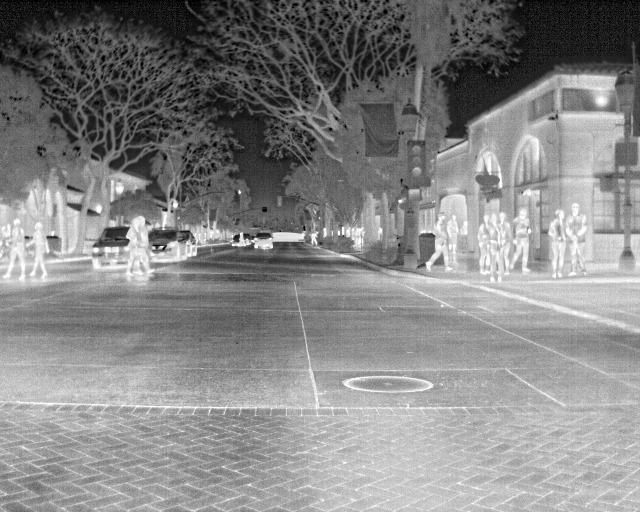bicycle: (91, 228, 131, 268), (145, 228, 183, 263), (178, 229, 199, 258), (252, 228, 276, 250)
empty: (422, 212, 451, 271), (1, 217, 27, 279), (24, 221, 51, 280), (510, 209, 533, 273), (546, 208, 567, 277), (485, 214, 505, 282), (565, 204, 584, 275), (125, 216, 145, 280), (137, 216, 156, 278), (478, 213, 492, 274), (446, 210, 461, 263), (495, 211, 507, 248), (309, 229, 321, 246)
